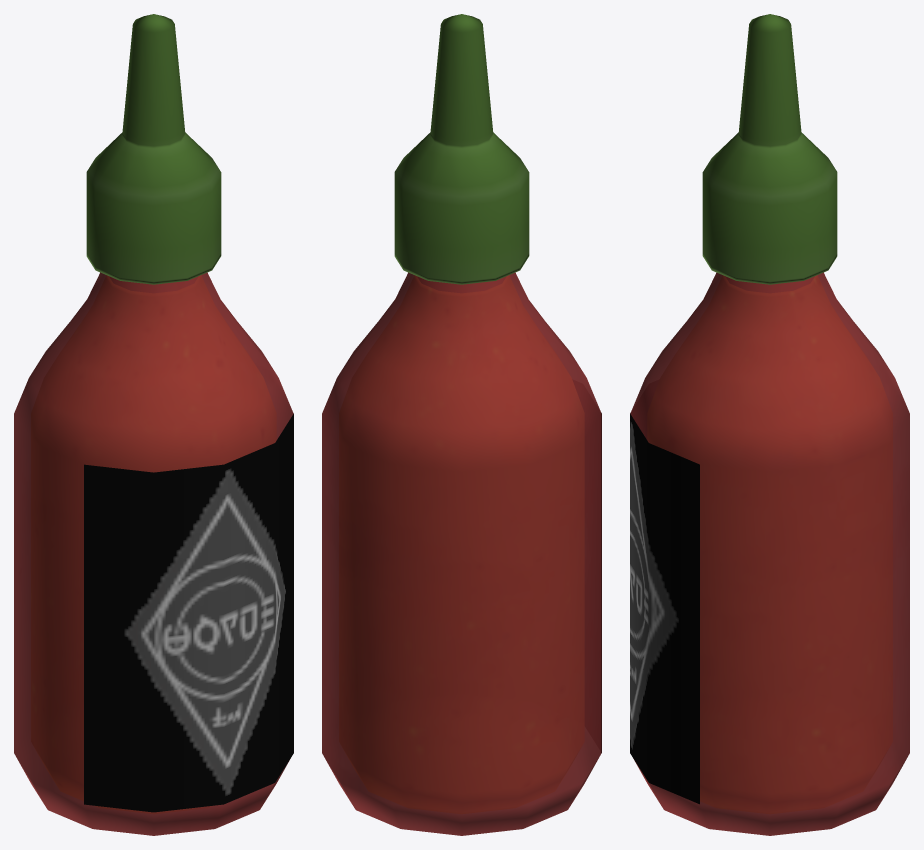
Rendered from pi_chilisauce03.gltf.
The picture shows the model from 3 angles, left to right: view 1: azimuth 30°, elevation 25°; view 2: azimuth 150°, elevation 25°; view 3: azimuth 270°, elevation 25°; orthographic projection.
Visible parts, largest first — view 1: pi_chilisauce03_label01_mesh_shape:pi_chilisauce03_label, pi_chilisauce03_body01_mesh_shape:pi_chilisauce03_glass, pi_chilisauce03_sauce01_mesh_shape:pi_chilisauce03_sauce, pi_chilisauce03_lid01_mesh_shape:pi_chilisauce03_lid; view 2: pi_chilisauce03_body01_mesh_shape:pi_chilisauce03_glass, pi_chilisauce03_sauce01_mesh_shape:pi_chilisauce03_sauce, pi_chilisauce03_lid01_mesh_shape:pi_chilisauce03_lid, pi_chilisauce03_body02_mesh_shape:pi_chilisauce03_glass; view 3: pi_chilisauce03_body01_mesh_shape:pi_chilisauce03_glass, pi_chilisauce03_sauce01_mesh_shape:pi_chilisauce03_sauce, pi_chilisauce03_lid01_mesh_shape:pi_chilisauce03_lid, pi_chilisauce03_label01_mesh_shape:pi_chilisauce03_label.
Part boxes in pixels (x1,y1,x2,y2): pi_chilisauce03_label01_mesh_shape:pi_chilisauce03_label: (84, 413, 293, 812); pi_chilisauce03_body01_mesh_shape:pi_chilisauce03_glass: (14, 272, 293, 835); pi_chilisauce03_sauce01_mesh_shape:pi_chilisauce03_sauce: (31, 276, 275, 813); pi_chilisauce03_lid01_mesh_shape:pi_chilisauce03_lid: (86, 14, 221, 284); pi_chilisauce03_body01_mesh_shape:pi_chilisauce03_glass: (322, 272, 601, 835); pi_chilisauce03_sauce01_mesh_shape:pi_chilisauce03_sauce: (339, 276, 583, 813); pi_chilisauce03_lid01_mesh_shape:pi_chilisauce03_lid: (394, 14, 529, 284); pi_chilisauce03_body02_mesh_shape:pi_chilisauce03_glass: (418, 277, 504, 292); pi_chilisauce03_body01_mesh_shape:pi_chilisauce03_glass: (630, 272, 909, 835); pi_chilisauce03_sauce01_mesh_shape:pi_chilisauce03_sauce: (648, 276, 892, 813); pi_chilisauce03_lid01_mesh_shape:pi_chilisauce03_lid: (702, 14, 837, 284); pi_chilisauce03_label01_mesh_shape:pi_chilisauce03_label: (630, 413, 699, 804).
Size of the model in its own units: 0.0546 by 0.1661 by 0.0547.
Materials: 4 (4 with a texture image).
